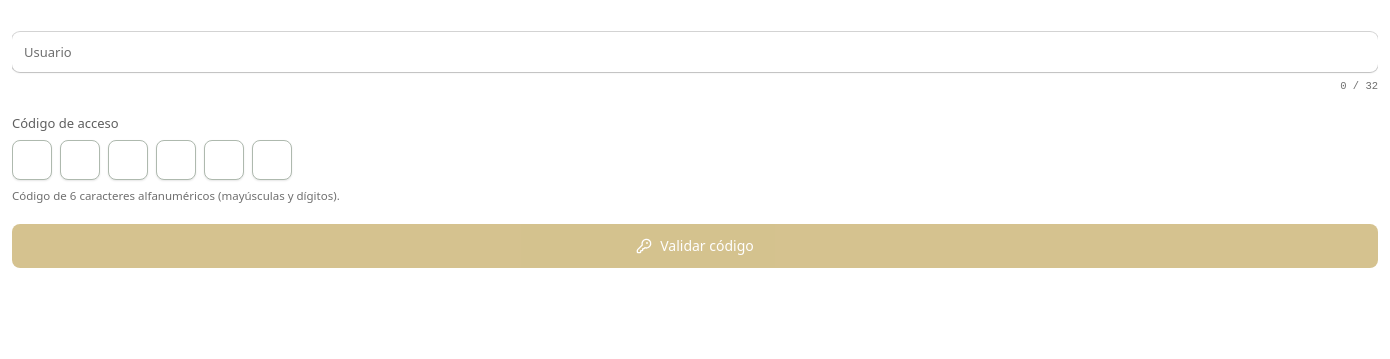
Test: LoginFormOtp (single-step username + OTP, gold-box restyle) › surfaces an error when the backend rejects with invalid_credentials
The image size is (1390, 359).
Type "admin" into the field with test id "login-username" at (695, 52), box x1=12 y1=32 x2=1378 y2=72
Type "0" into the field labelled "Código de acceso" at (32, 160), box x1=12 y1=140 x2=52 y2=180
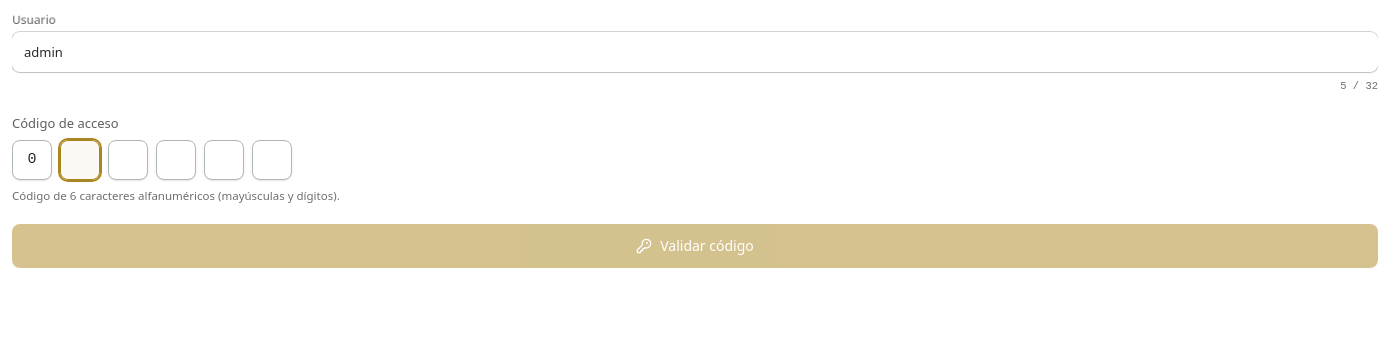
Type "0" into the field named "Digit 2 of 6" at (80, 160), box x1=60 y1=140 x2=100 y2=180
Type "0" into the field named "Digit 3 of 6" at (128, 160), box x1=108 y1=140 x2=148 y2=180
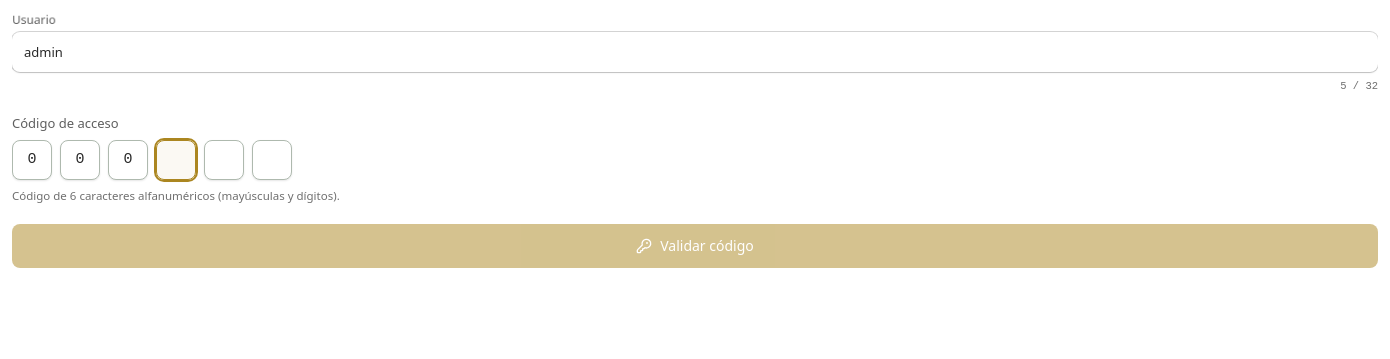
Type "0" into the field named "Digit 4 of 6" at (176, 160), box x1=156 y1=140 x2=196 y2=180
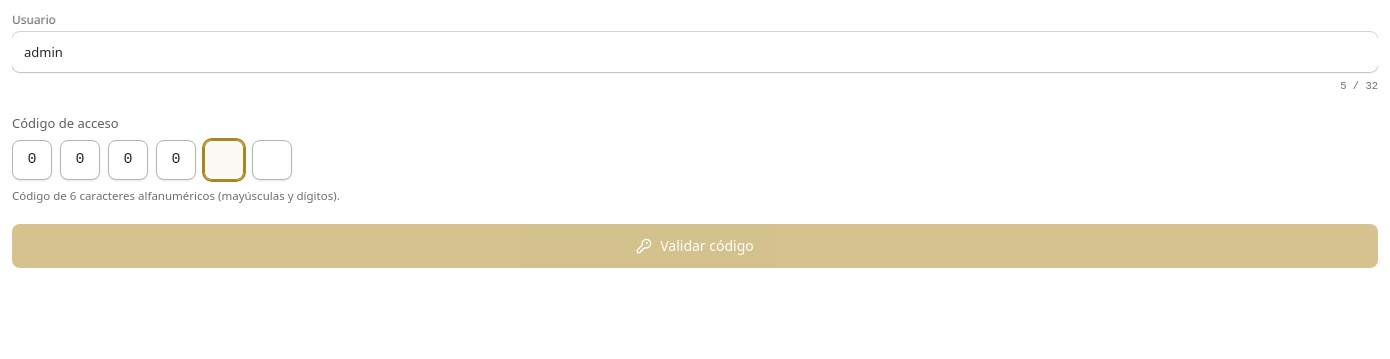
Type "0" into the field named "Digit 5 of 6" at (224, 160), box x1=204 y1=140 x2=244 y2=180
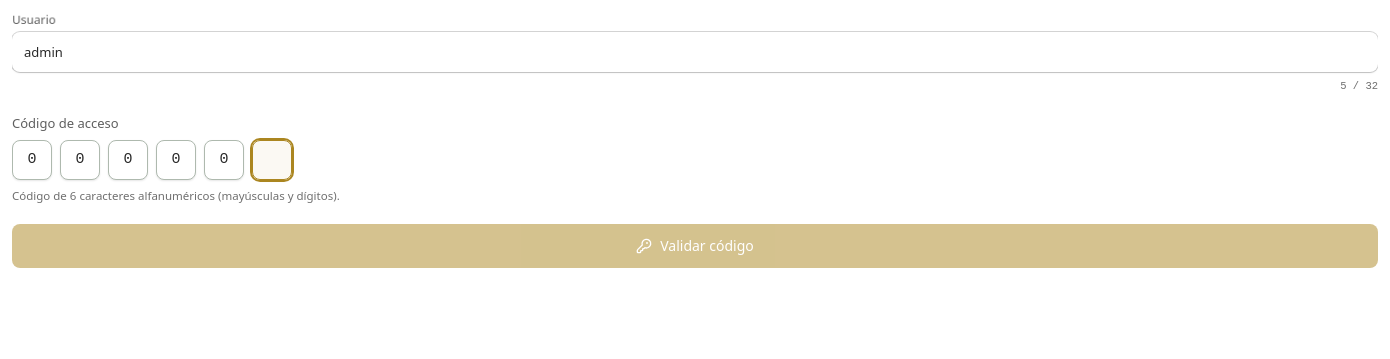
Type "0" into the field named "Digit 6 of 6" at (272, 160), box x1=252 y1=140 x2=292 y2=180
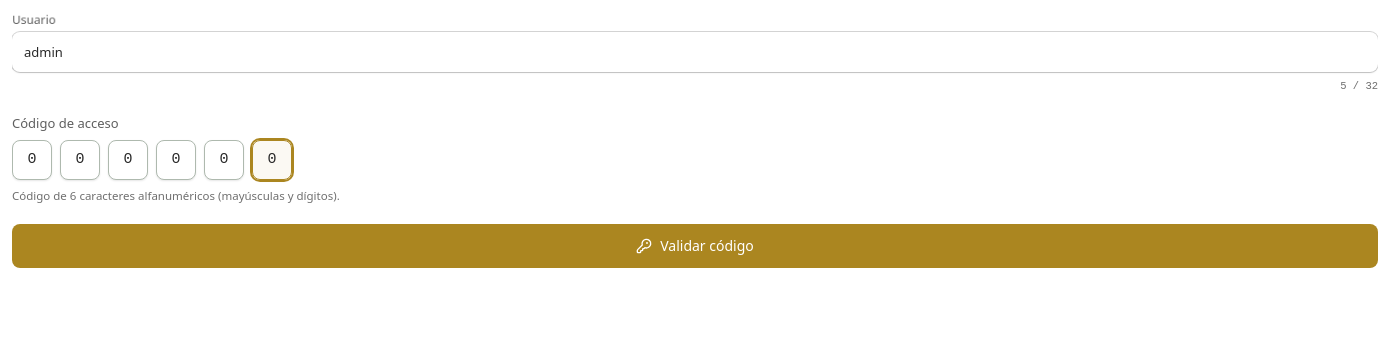
Click the button with test id "login-submit" at (695, 246), box x1=12 y1=224 x2=1378 y2=268
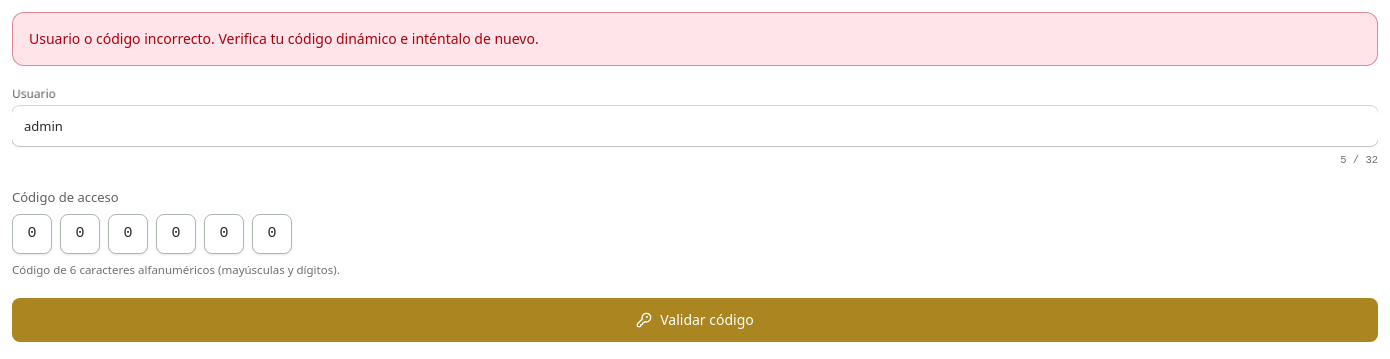
Expected: the message "Usuario o código incorrecto. Verifica tu código dinámico e inténtalo de nuevo." is shown, x1=12 y1=12 x2=1378 y2=66
Expected: the message with test id "login-error" reads "Usuario o código incorrecto. Verifica tu código dinámico e inténtalo de nuevo.", x1=29 y1=29 x2=539 y2=48
